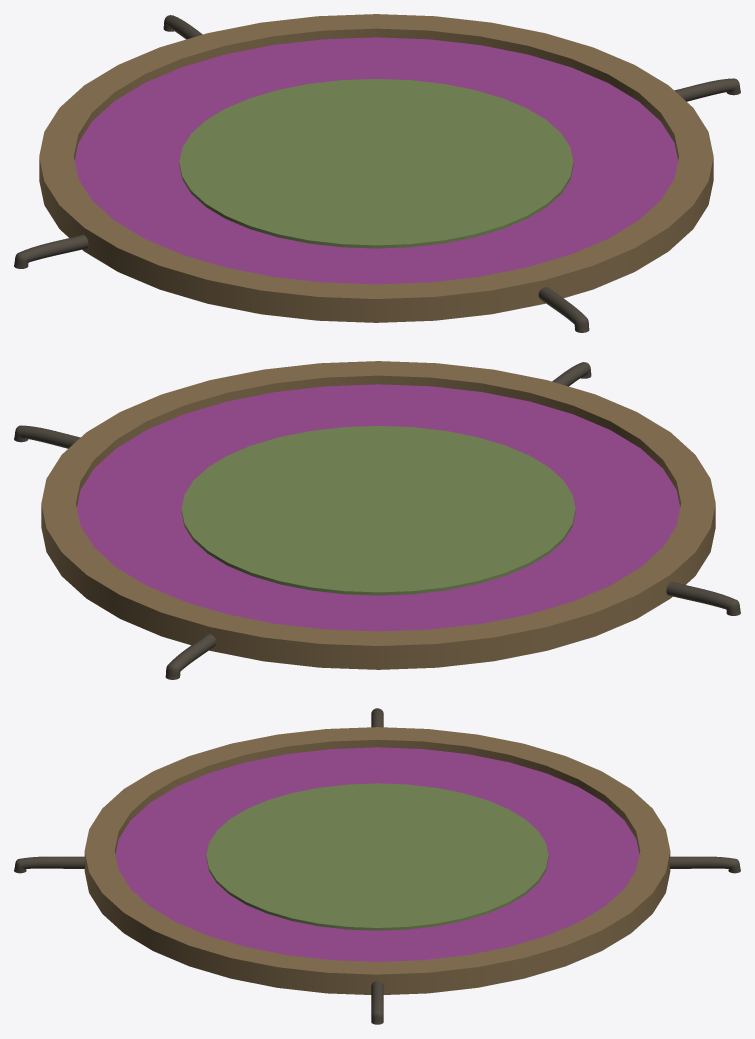
Rendered from trampoline.fbx.
3 renders of one model, top to bottom at view 1: azimuth 30°, elevation 25°; view 2: azimuth 150°, elevation 25°; view 3: azimuth 270°, elevation 25°, orthographic. The views are drawn at different scales.
Parts seen in each view (by area): view 1: trampoline; view 2: trampoline; view 3: trampoline.
Boxes of the visible parts, x1,y1,x2,y2 form: trampoline: [14, 14, 740, 332]; trampoline: [14, 361, 740, 679]; trampoline: [14, 708, 740, 1024].
Bounding box in the file's own units: 496 × 15.59 × 496.
